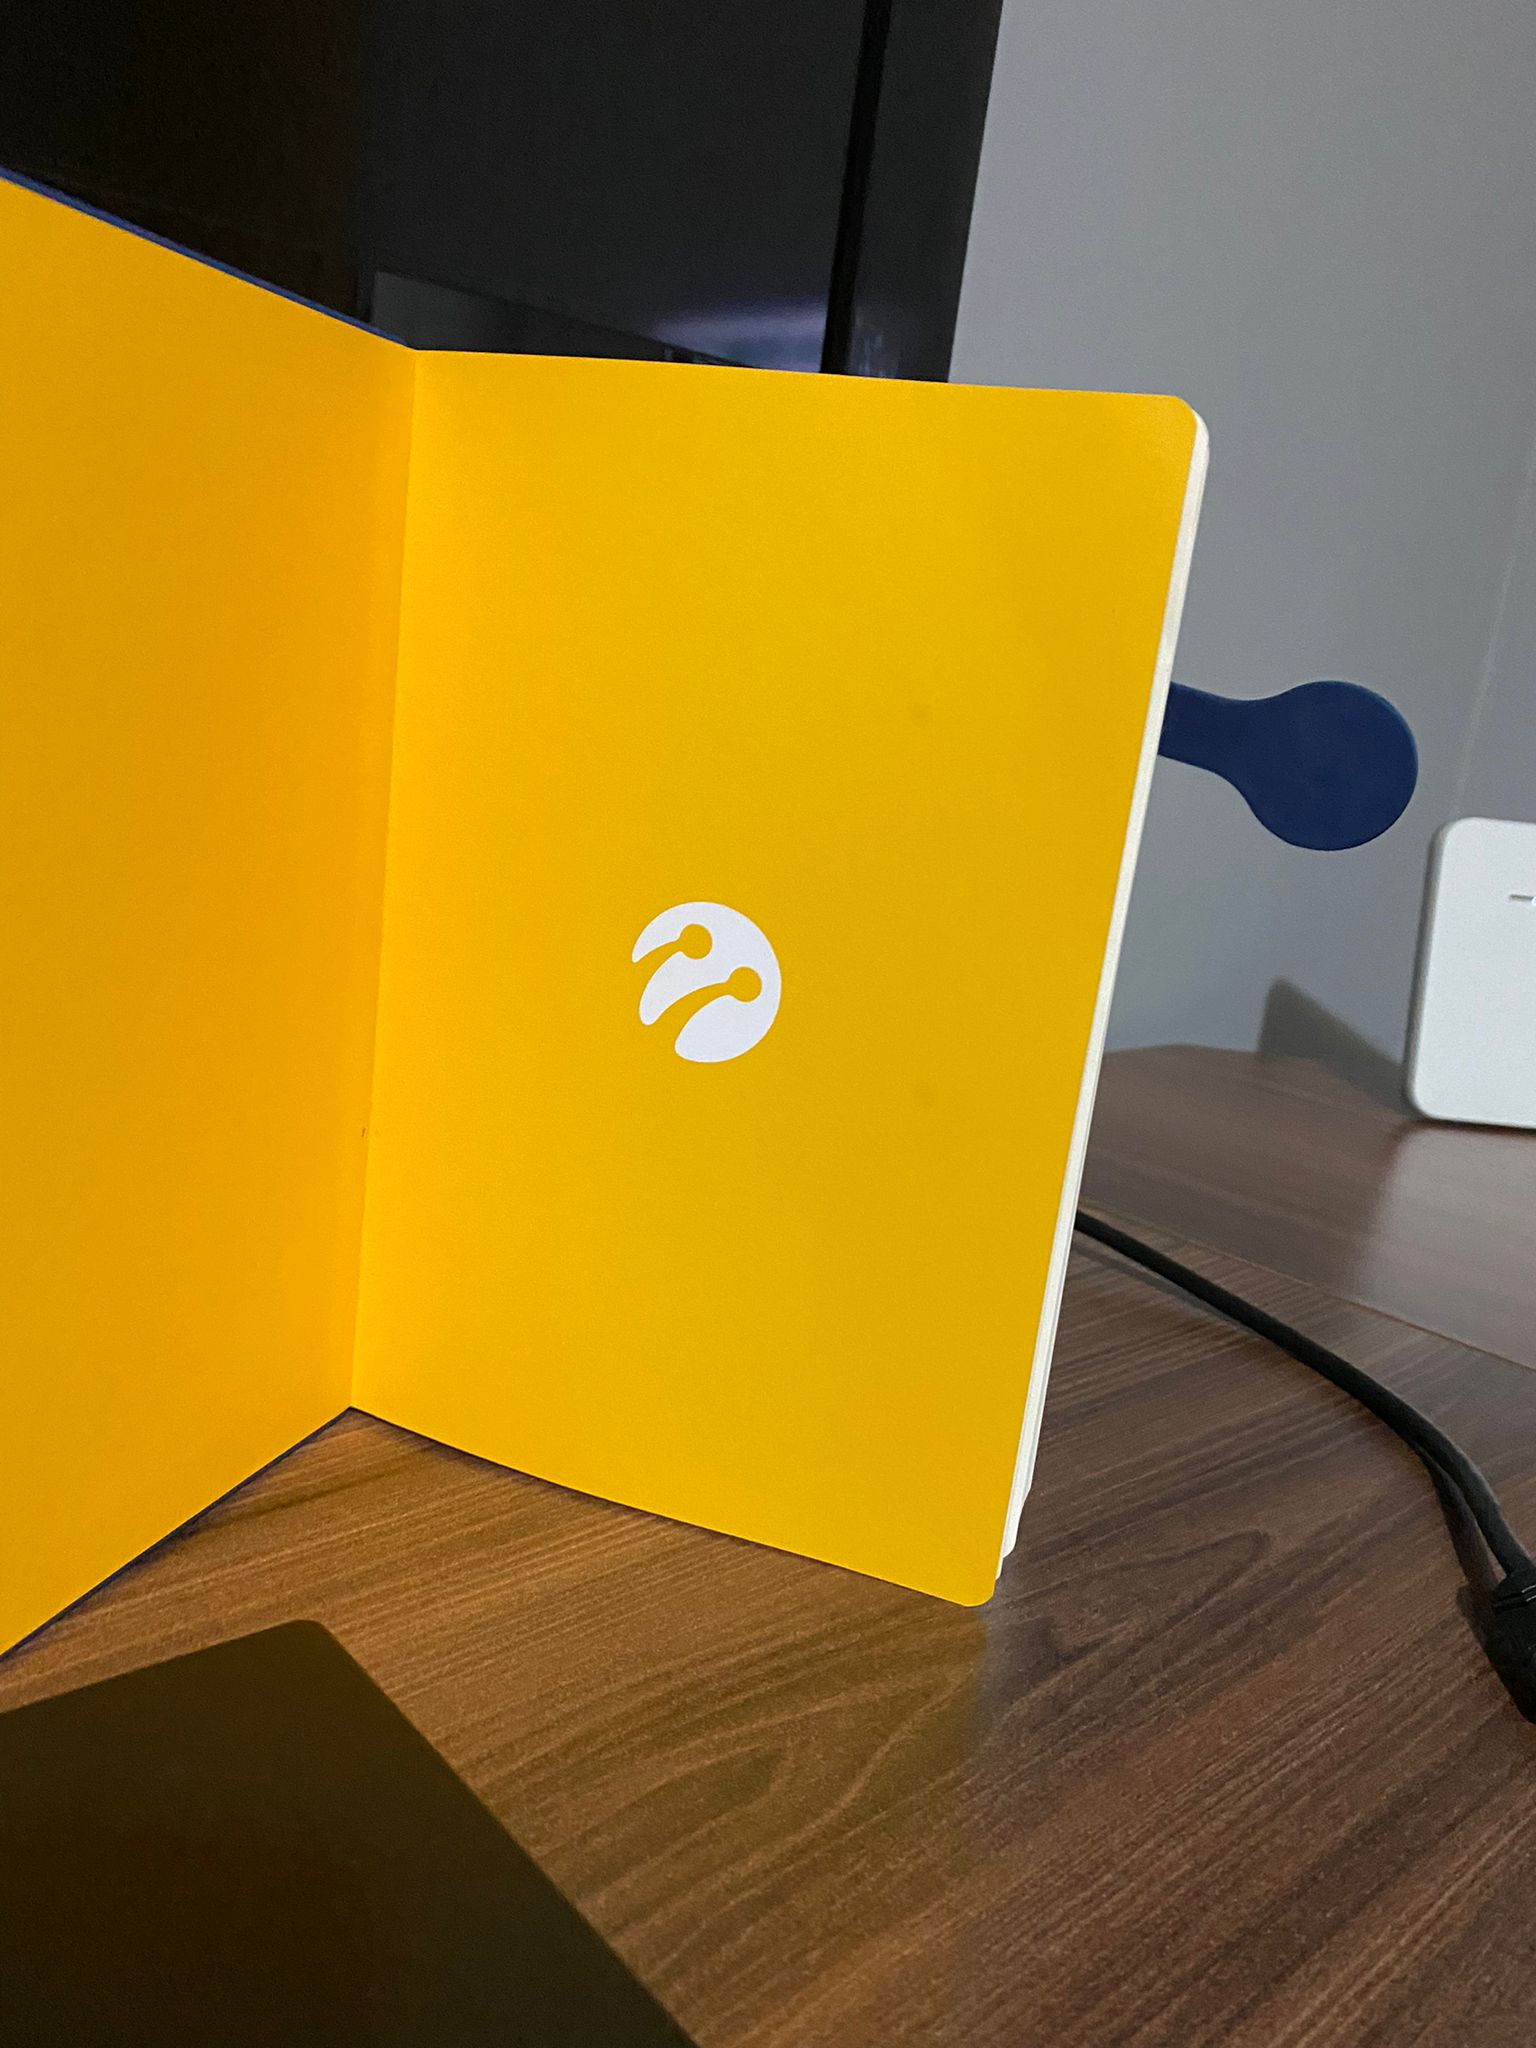turkcell: (624, 893, 779, 1071)
